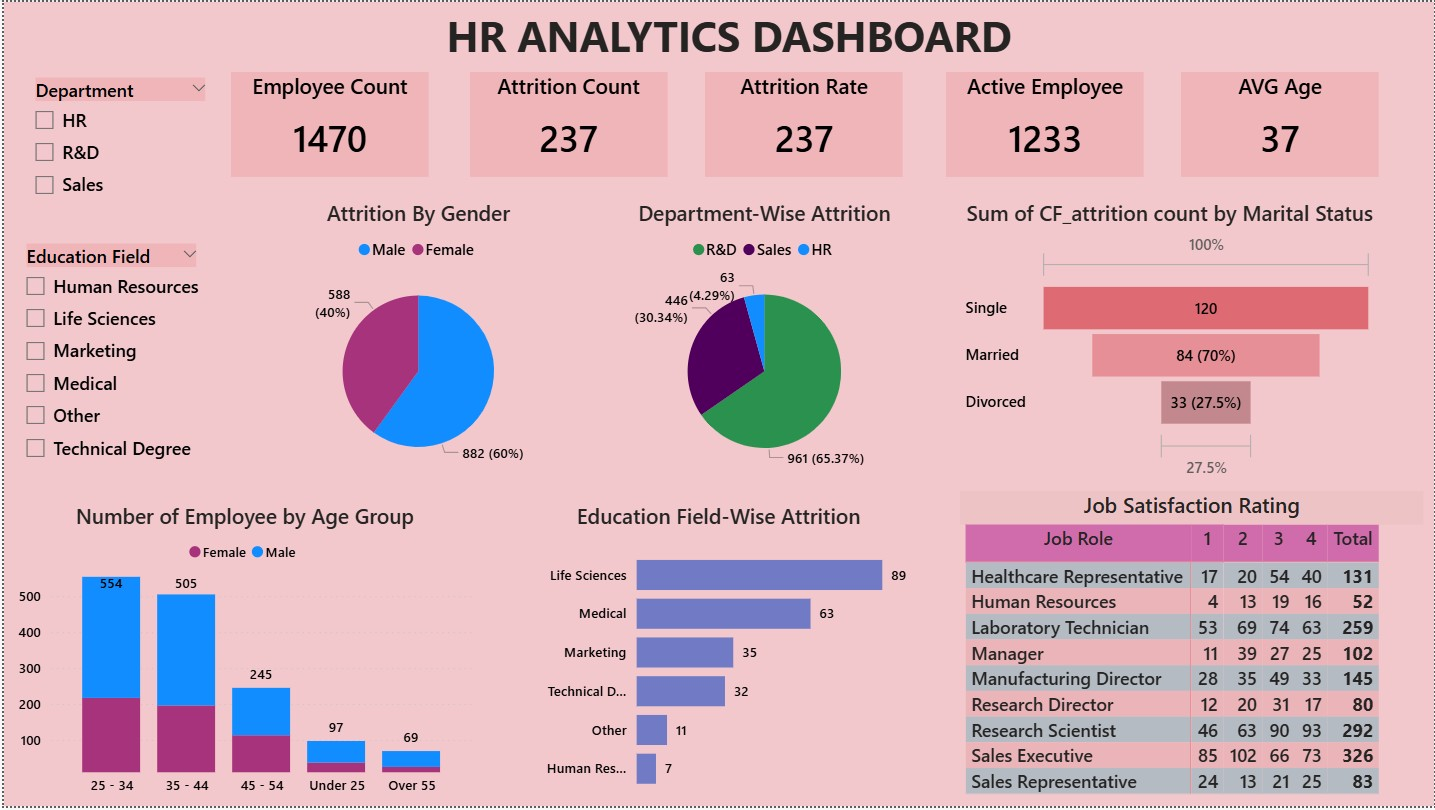

The page's visual inventory and layout, read from the dashboard file:
{"tool":"powerbi","page":{"name":"HR_ANALYTICS_DASHBOARD","canvas":[1280,720],"ordinal":0},"visuals":[{"type":"group","id":"g1","title":"Group 1","box":[380.9,0,545.5,62.7],"z":0},{"type":"shape","box":[380.9,0,545.5,62.7],"z":0,"group":"g1"},{"type":"textbox","box":[380.9,0,537.3,62.7],"z":1000,"group":"g1"},{"type":"card","title":"AVG Age","fields":{"Values":["Avg(HR_DATA.Age)"]},"box":[1053.9,63.1,177.5,93.7],"z":1000},{"type":"card","title":"Employee Count","fields":{"Values":["Sum(Table_1.Employee Count)"]},"box":[203.6,62.7,177.3,93.6],"z":2000},{"type":"card","title":"Attrition Count","fields":{"Values":["Sum(HR_DATA.CF_attrition count)"]},"box":[417.1,63.1,176.6,93.7],"z":3000},{"type":"card","title":"Attrition Rate","fields":{"Values":["Sum(HR_DATA.CF_attrition rate)"]},"box":[627.8,63.1,177.5,93.7],"z":4000},{"type":"card","title":"Active Employee","fields":{"Values":["Sum(HR_DATA.CF_current Employee)"]},"box":[844,63.1,177.5,93.7],"z":5000},{"type":"pieChart","title":"Attrition By Gender","fields":{"Y":["CountNonNull(HR_DATA.Attrition)"],"Category":["HR_DATA.Gender"]},"box":[243.2,176.6,254.9,254.9],"z":6000},{"type":"pieChart","title":"Department-Wise Attrition ","fields":{"Y":["CountNonNull(HR_DATA.Attrition)"],"Category":["HR_DATA.Department"]},"box":[547.7,176.6,265.7,254.9],"z":7000},{"type":"columnChart","title":"Number of Employee by Age Group","fields":{"Category":["HR_DATA.CF_age band"],"Y":["CountNonNull(HR_DATA.Attrition)"],"Series":["HR_DATA.Gender"]},"box":[7.2,447.7,417.1,272],"z":8000},{"type":"barChart","title":"Education Field-Wise Attrition ","fields":{"Category":["HR_DATA.Education Field"],"Y":["Sum(HR_DATA.CF_attrition rate)"]},"box":[466.6,447.7,346.8,272],"z":9000},{"type":"slicer","fields":{"Values":["HR_DATA.Education Field"]},"box":[7.2,211.7,178.4,226.1],"z":10000},{"type":"pivotTable","title":"Job Satisfaction Rating","fields":{"Rows":["HR_DATA.Job Role"],"Columns":["HR_DATA.Job Satisfaction"],"Values":["Sum(HR_DATA.Employee Count)"]},"box":[855.7,437.8,415.3,281.9],"z":11000},{"type":"funnel","fields":{"Category":["HR_DATA.Marital Status"],"Y":["Sum(HR_DATA.CF_attrition count)"]},"box":[855.7,176.6,375.6,254.9],"z":12000},{"type":"slicer","fields":{"Values":["HR_DATA.Department"]},"box":[15.3,63.1,178.4,226.1],"z":12001}]}

Visuals, with their boxes in screenshot pixels (x1, y1, x2, y2), scaled from the page's 1280x720 canvas onto the 1435x810 screenshot:
"Group 1" group: (427,0,1039,71)
shape: (427,0,1039,71)
textbox: (427,0,1029,71)
"AVG Age" card: (1182,71,1381,176)
"Employee Count" card: (228,71,427,176)
"Attrition Count" card: (468,71,666,176)
"Attrition Rate" card: (704,71,903,176)
"Active Employee" card: (946,71,1145,176)
"Attrition By Gender" pieChart: (273,199,558,485)
"Department-Wise Attrition " pieChart: (614,199,912,485)
"Number of Employee by Age Group" columnChart: (8,504,476,809)
"Education Field-Wise Attrition " barChart: (523,504,912,809)
slicer - HR_DATA.Education Field: (8,238,208,493)
"Job Satisfaction Rating" pivotTable: (959,493,1425,809)
funnel - HR_DATA.Marital Status x Sum(HR_DATA.CF_attrition count): (959,199,1380,485)
slicer - HR_DATA.Department: (17,71,217,325)
